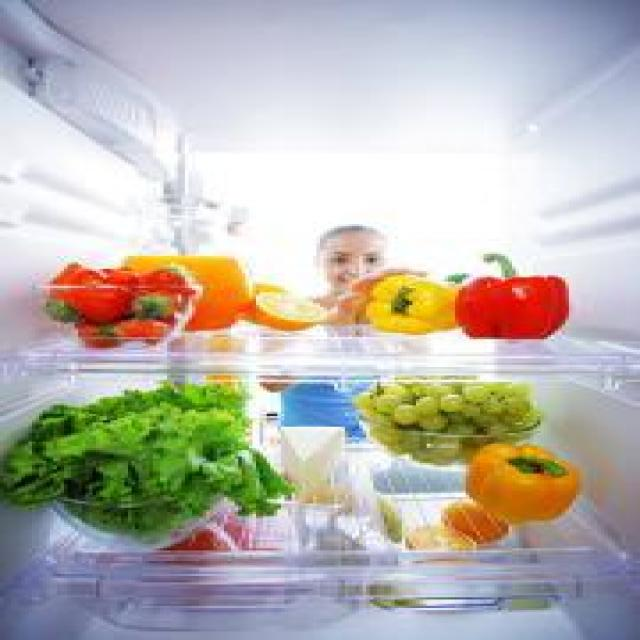bell_pepper: (462, 440, 587, 526), (453, 250, 571, 341), (362, 273, 458, 337)
cheese: (274, 421, 348, 511)
salad: (0, 377, 292, 545)
